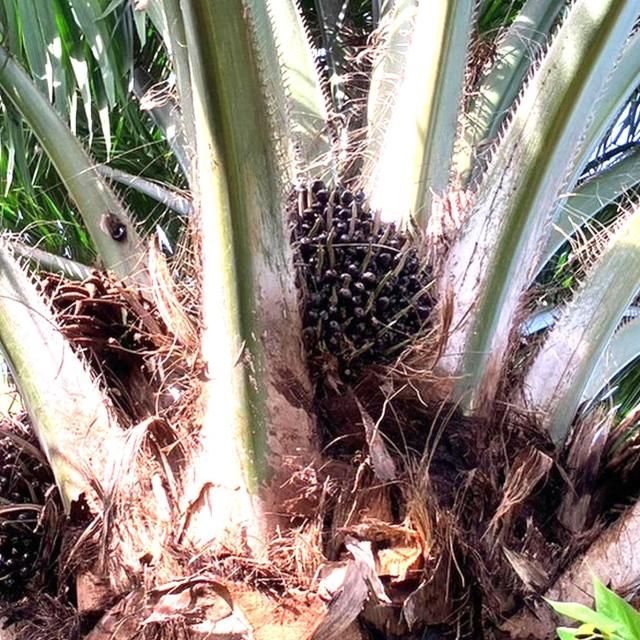unripe: (280, 166, 448, 409)
